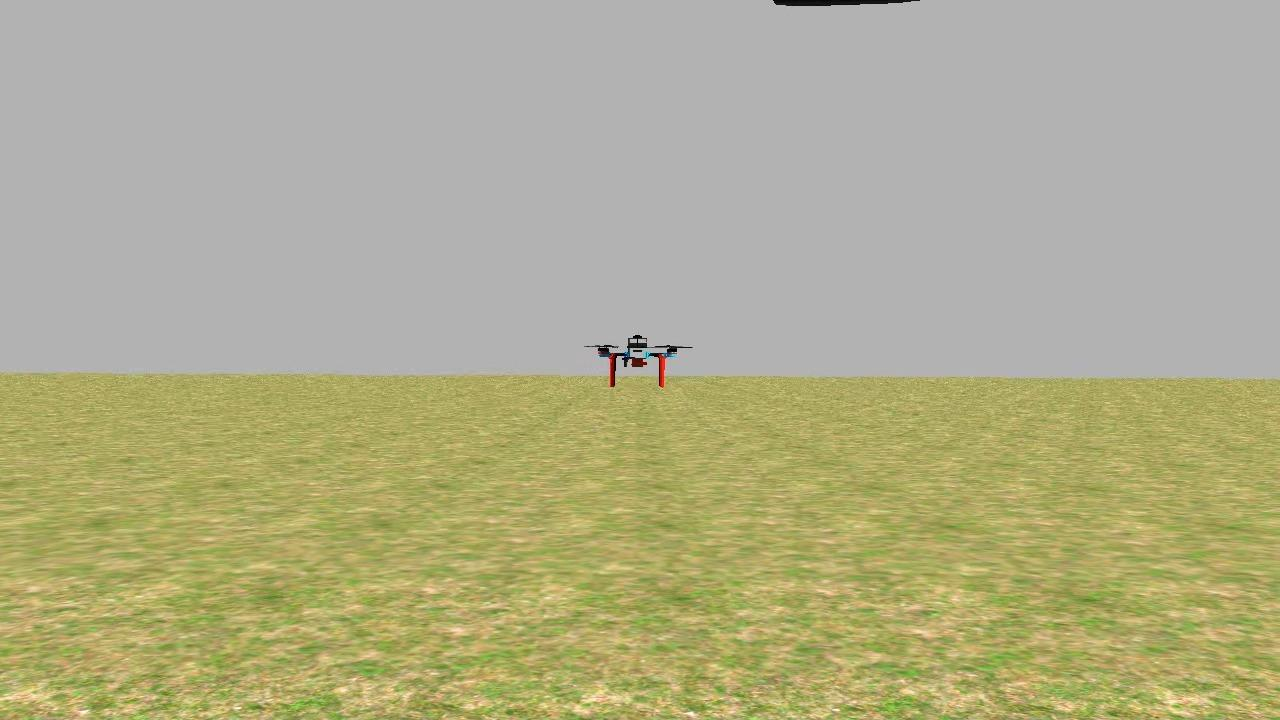UAV: (584, 324, 694, 396)
